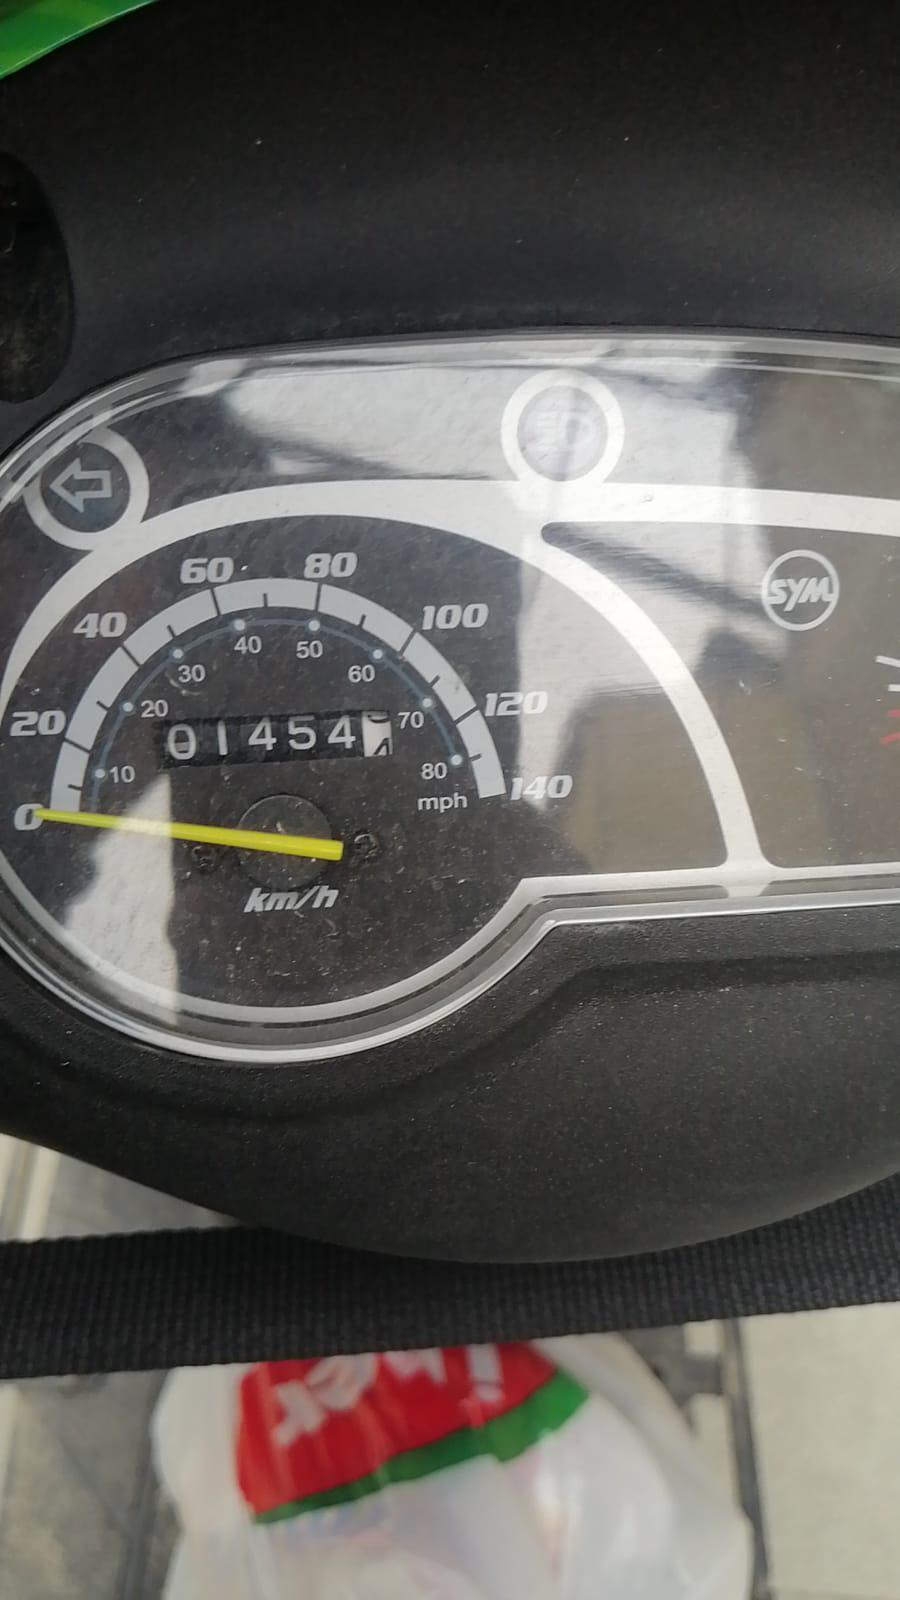0: (167, 719, 197, 762)
1: (212, 716, 233, 759)
4: (326, 713, 358, 749), (247, 715, 278, 752), (370, 733, 392, 762)
5: (287, 712, 318, 752)
odometer: (148, 709, 395, 771)
